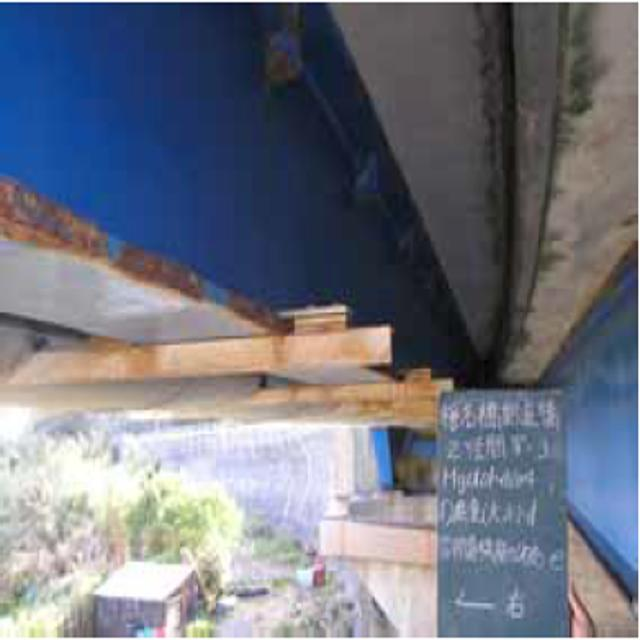corrosion: (4, 177, 432, 420)
